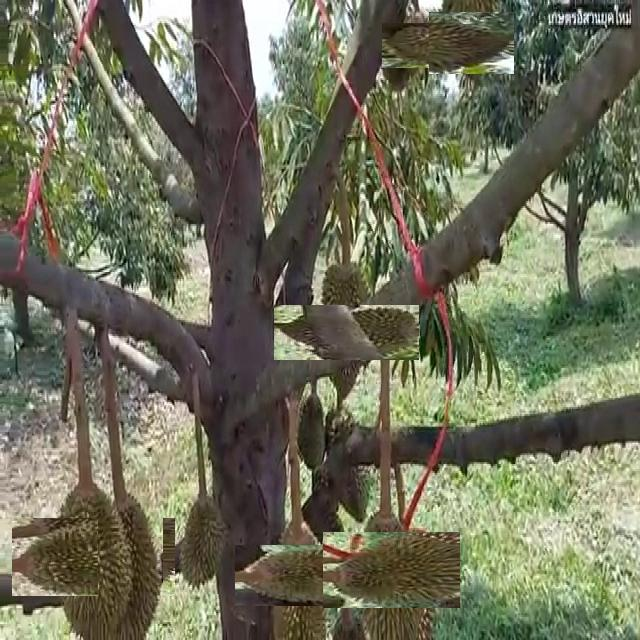durian: (33, 496, 154, 617), (338, 516, 445, 623), (296, 282, 397, 383), (98, 483, 163, 638), (251, 528, 345, 622), (322, 401, 373, 526), (434, 5, 508, 80), (180, 494, 228, 594), (387, 17, 444, 74), (294, 389, 326, 474)
